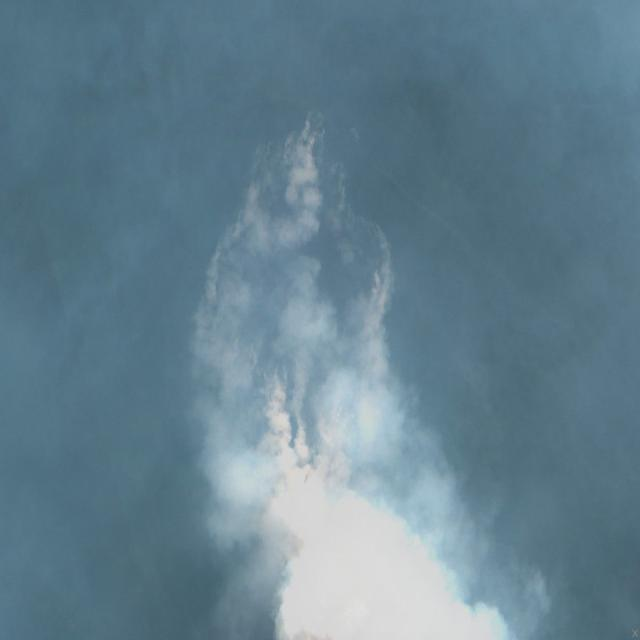fire: (203, 107, 399, 500)
